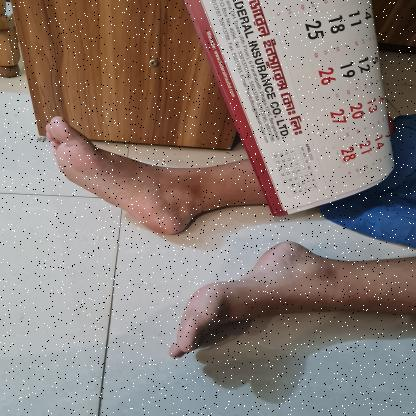leg: (157, 232, 416, 368), (28, 108, 272, 242)
